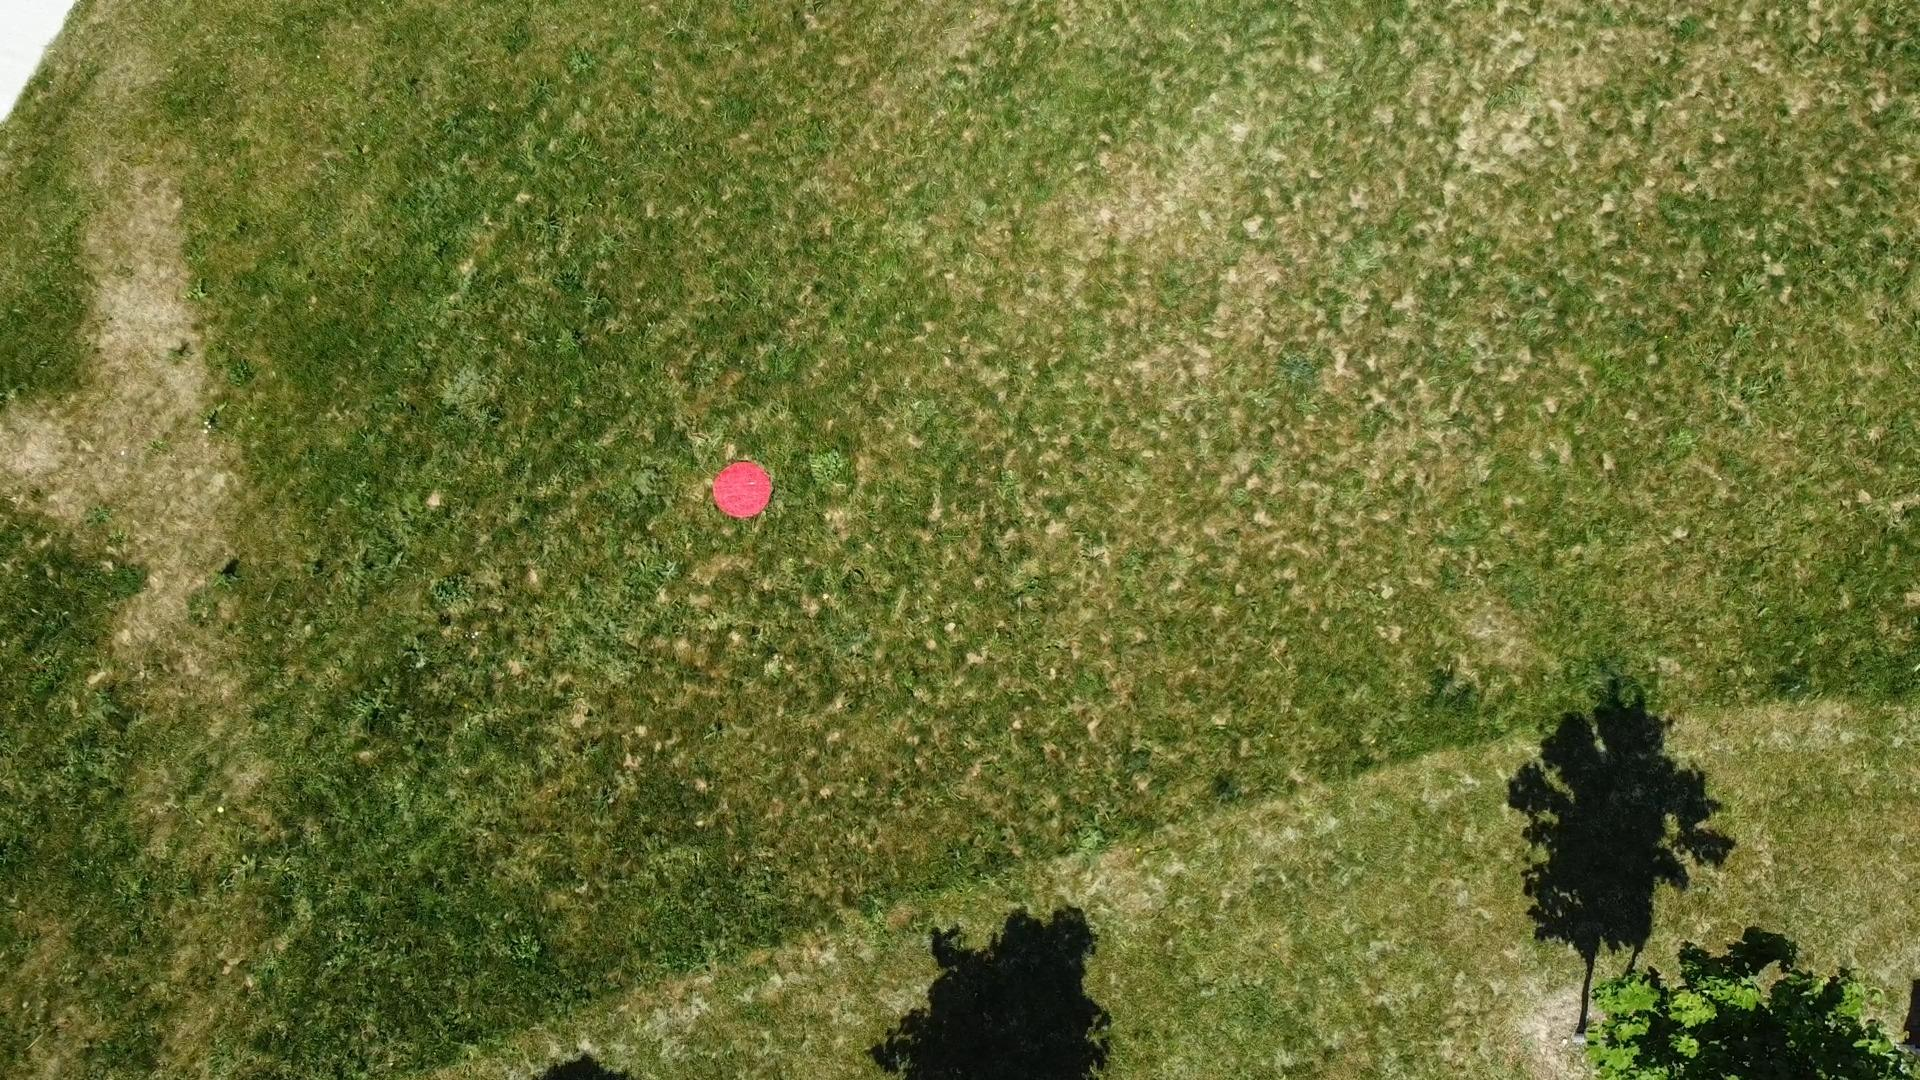Red: (712, 459, 775, 521)
